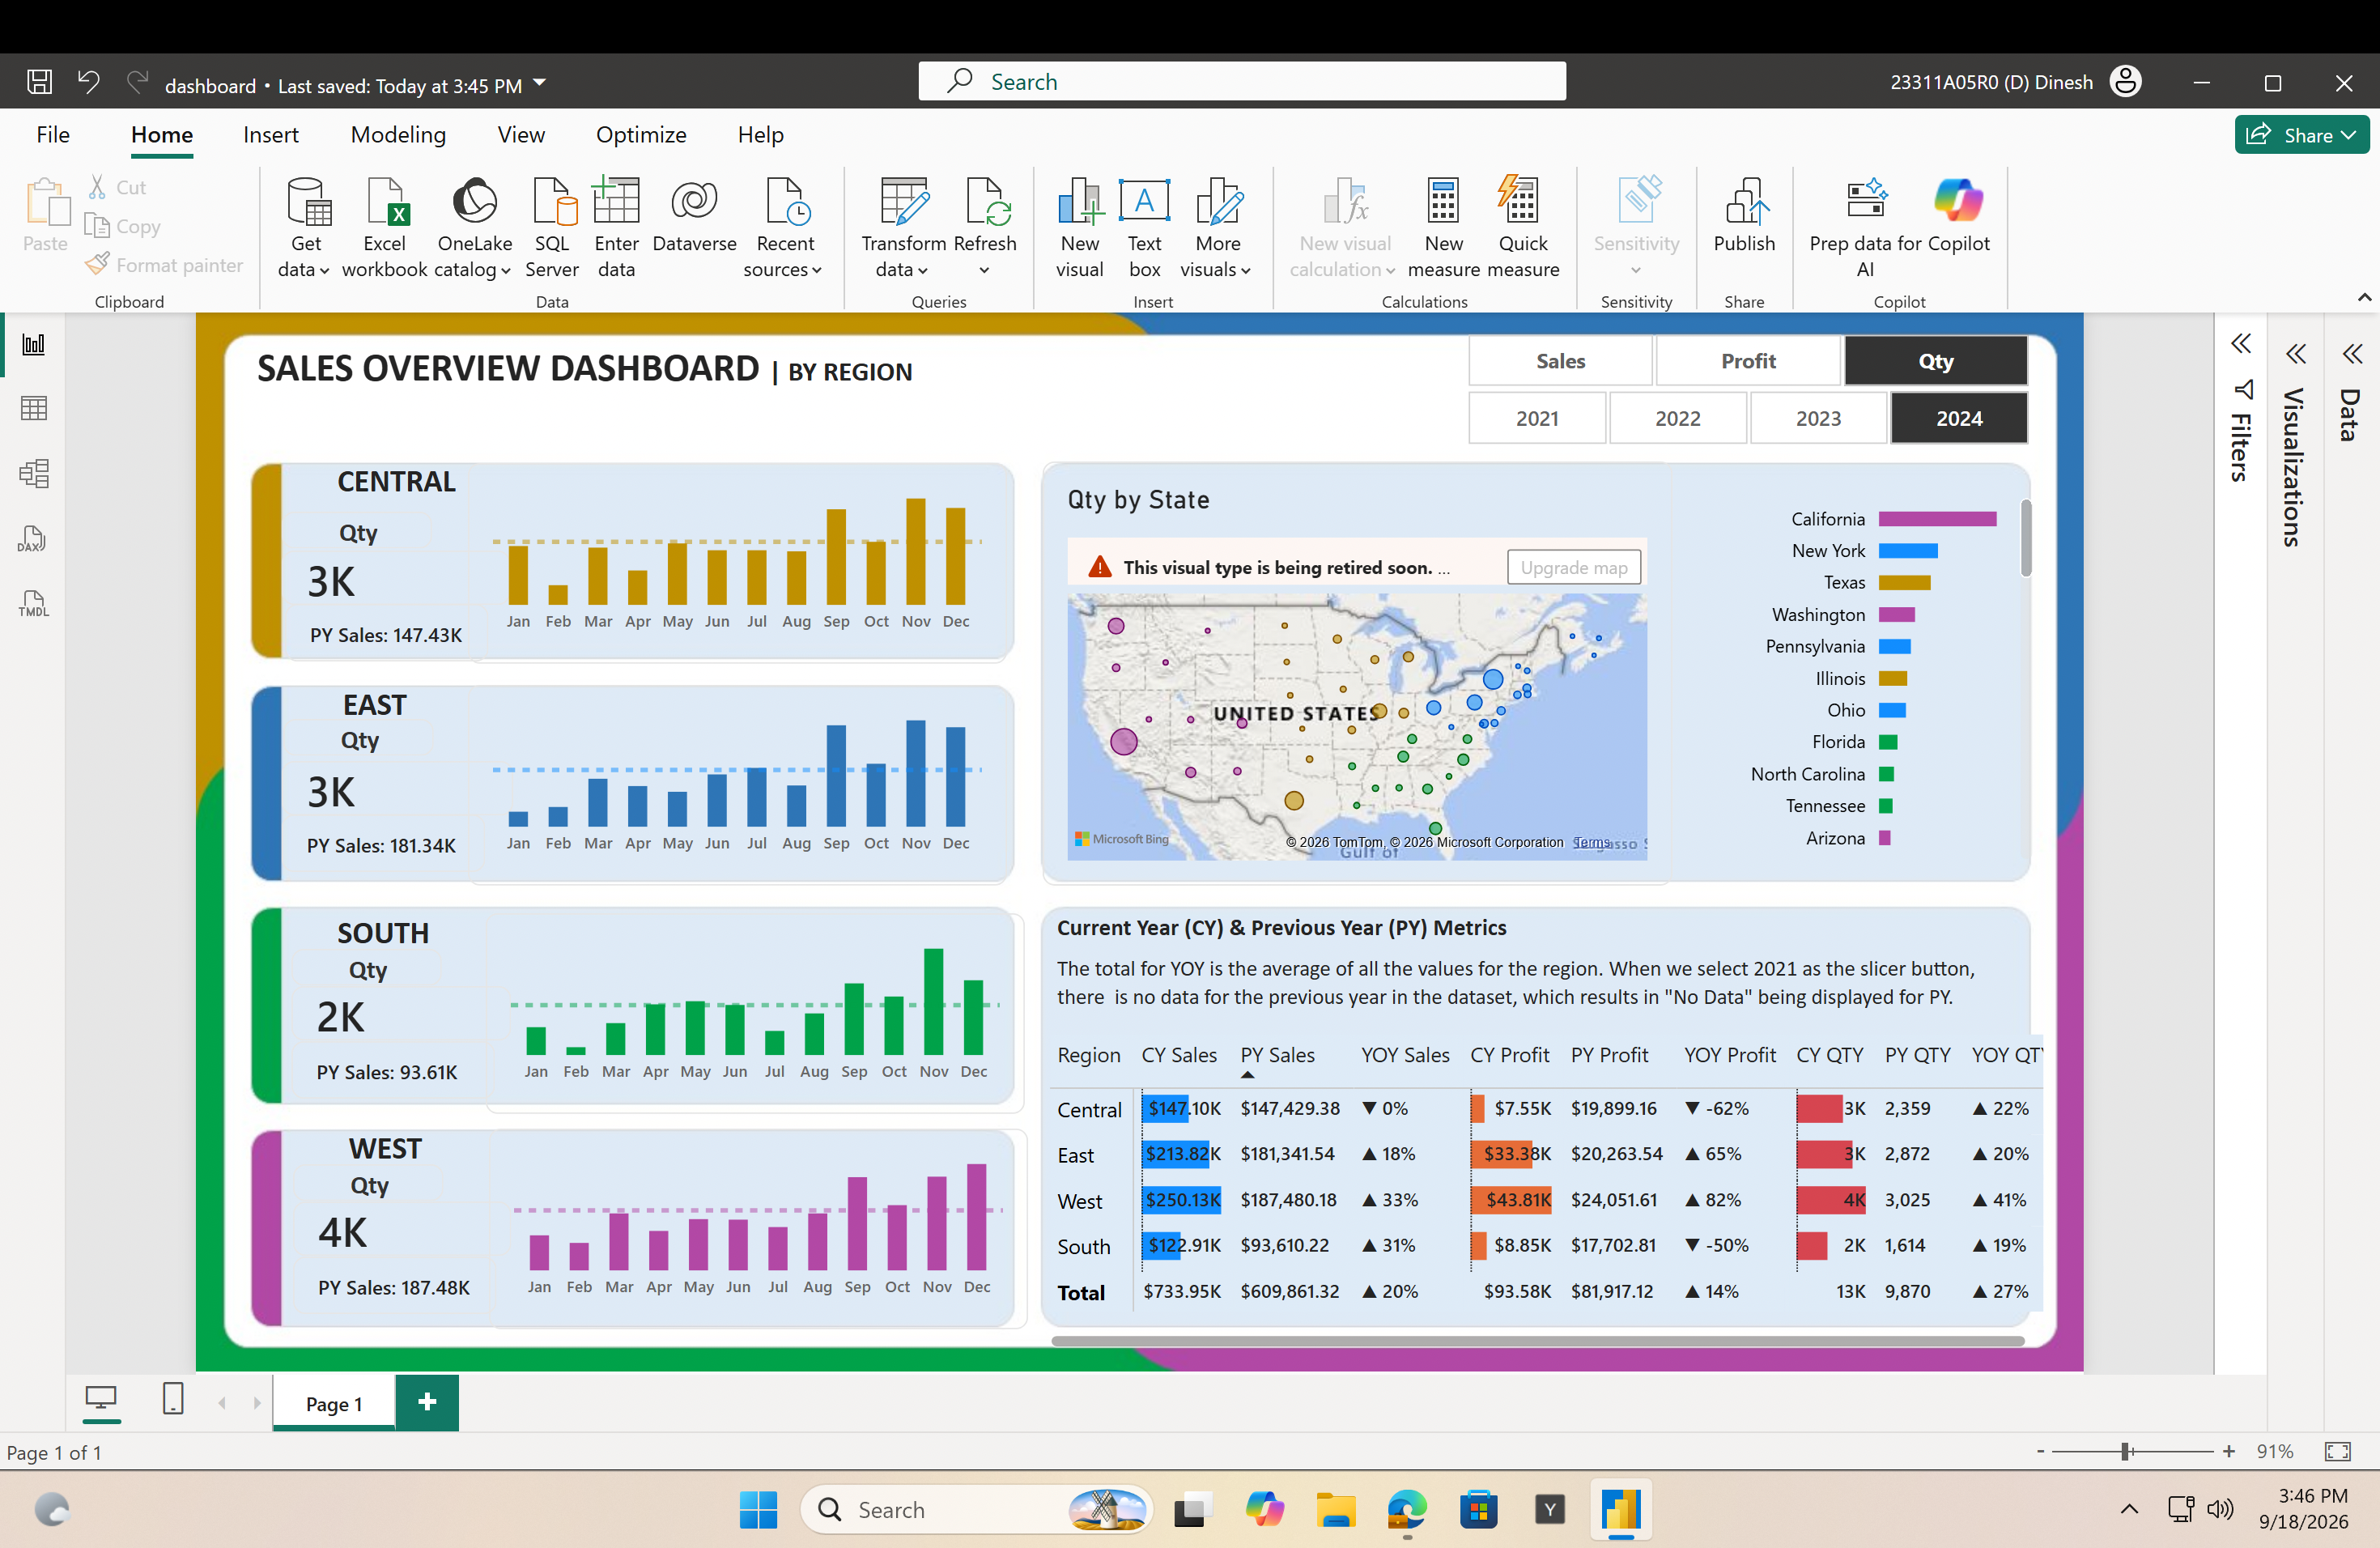

Layout of this report page (visuals, bound fields, positions):
{"tool":"powerbi","page":{"name":"Page 1","canvas":[1280,720],"ordinal":0},"visuals":[{"type":"slicer","fields":{"Values":["Select Metric.Select Metric"]},"box":[841.8,13.6,419.7,38.4],"z":0},{"type":"cardVisual","fields":{"Data":["Sales Data.Total Qty"]},"box":[58.2,160.9,156,37.1],"z":1000},{"type":"textbox","box":[73,101.5,125,47],"z":2000},{"type":"slicer","fields":{"Values":["Calender Table.Year"]},"box":[841.8,52,419.7,39.6],"z":3000},{"type":"cardVisual","fields":{"Data":["Sales Data.Dynamic Title"]},"box":[58.2,134.9,102.7,26],"z":4000},{"type":"cardVisual","fields":{"Data":["Sales Data.PY KPI Sales"]},"box":[60.7,198.1,138.6,39.6],"z":5000},{"type":"clusteredColumnChart","fields":{"Category":["Calender Table.Month"],"Y":["Sales Data.Total Qty"]},"box":[184.4,102.1,365.5,136.1],"z":6000},{"type":"textbox","box":[19.8,20.9,488.4,39.5],"z":7000},{"type":"cardVisual","fields":{"Data":["Sales Data.Total Qty"]},"box":[58.2,304.5,157.2,37.1],"z":8000},{"type":"textbox","box":[58.2,252.5,126.3,35.9],"z":9000},{"type":"cardVisual","fields":{"Data":["Sales Data.Dynamic Title"]},"box":[59.7,275.9,102.7,26],"z":10000},{"type":"cardVisual","fields":{"Data":["Sales Data.PY KPI Sales"]},"box":[58.2,340.2,138.6,39.6],"z":11000},{"type":"clusteredColumnChart","fields":{"Category":["Calender Table.Month"],"Y":["Sales Data.Total Qty"]},"box":[184.4,252.4,365.5,136.1],"z":12000},{"type":"cardVisual","fields":{"Data":["Sales Data.Total Qty"]},"box":[64.4,456.8,149.8,37.1],"z":13000},{"type":"textbox","box":[64.4,407.3,125,37.1],"z":14000},{"type":"cardVisual","fields":{"Data":["Sales Data.Dynamic Title"]},"box":[64.4,430.8,102.7,26],"z":15000},{"type":"cardVisual","fields":{"Data":["Sales Data.PY KPI Sales"]},"box":[64.4,493.9,138.6,39.6],"z":16000},{"type":"clusteredColumnChart","fields":{"Category":["Calender Table.Month"],"Y":["Sales Data.Total Qty"]},"box":[196.8,407.3,365.5,136.1],"z":17000},{"type":"cardVisual","fields":{"Data":["Sales Data.Total Qty"]},"box":[65.6,602.9,148.5,37.1],"z":18000},{"type":"textbox","box":[65.7,553.4,125,37.1],"z":19000},{"type":"cardVisual","fields":{"Data":["Sales Data.Dynamic Title"]},"box":[65.7,577,102.7,26],"z":20000},{"type":"cardVisual","fields":{"Data":["Sales Data.PY KPI Sales"]},"box":[65.7,640.1,138.6,39.6],"z":21000},{"type":"clusteredColumnChart","fields":{"Category":["Calender Table.Month"],"Y":["Sales Data.Total Qty"]},"box":[198.2,553.4,365.5,136.1],"z":22000},{"type":"map","fields":{"Category":["Sales Data.State/Province"],"Series":["Sales Data.Region"],"Size":["Sales Data.Dynamic Metric"]},"box":[574,101,427,287.6],"z":23000},{"type":"barChart","fields":{"Category":["Sales Data.State/Province"],"Series":["Sales Data.Region"],"Y":["Sales Data.Total Qty"]},"box":[1001.5,104,260,282.2],"z":24000},{"type":"pivotTable","fields":{"Rows":["Sales Data.Region"],"Values":["Sales Data.CY Sales","Sales Data.PY Sales Display","Sales Data.YOY Sales","Sales Data.CY Profit","Sales Data.PY Profit Display","Sales Data.YOY Profit","Sales Data.CY QTY","Sales Data.PY QTY Display","Sales Data.YOY QTY"]},"box":[563.2,475.4,705.6,242.6],"z":25000},{"type":"textbox","box":[584.3,407.3,501.4,37.1],"z":26000},{"type":"textbox","box":[584.3,434.5,647.4,43.3],"z":27000}]}

Visuals, with their boxes on the page's 1280x720 design canvas (x1, y1, x2, y2). These are canvas units, not pixel positions in the 2380x1548 screenshot, which may show the page scaled, cropped or inside an application window:
slicer - Select Metric.Select Metric: rect(842, 14, 1262, 52)
cardVisual - Sales Data.Total Qty: rect(58, 161, 214, 198)
textbox: rect(73, 102, 198, 148)
slicer - Calender Table.Year: rect(842, 52, 1262, 92)
cardVisual - Sales Data.Dynamic Title: rect(58, 135, 161, 161)
cardVisual - Sales Data.PY KPI Sales: rect(61, 198, 199, 238)
clusteredColumnChart - Calender Table.Month x Sales Data.Total Qty: rect(184, 102, 550, 238)
textbox: rect(20, 21, 508, 60)
cardVisual - Sales Data.Total Qty: rect(58, 304, 215, 342)
textbox: rect(58, 252, 184, 288)
cardVisual - Sales Data.Dynamic Title: rect(60, 276, 162, 302)
cardVisual - Sales Data.PY KPI Sales: rect(58, 340, 197, 380)
clusteredColumnChart - Calender Table.Month x Sales Data.Total Qty: rect(184, 252, 550, 388)
cardVisual - Sales Data.Total Qty: rect(64, 457, 214, 494)
textbox: rect(64, 407, 189, 444)
cardVisual - Sales Data.Dynamic Title: rect(64, 431, 167, 457)
cardVisual - Sales Data.PY KPI Sales: rect(64, 494, 203, 534)
clusteredColumnChart - Calender Table.Month x Sales Data.Total Qty: rect(197, 407, 562, 543)
cardVisual - Sales Data.Total Qty: rect(66, 603, 214, 640)
textbox: rect(66, 553, 191, 590)
cardVisual - Sales Data.Dynamic Title: rect(66, 577, 168, 603)
cardVisual - Sales Data.PY KPI Sales: rect(66, 640, 204, 680)
clusteredColumnChart - Calender Table.Month x Sales Data.Total Qty: rect(198, 553, 564, 690)
map - Sales Data.State/Province x Sales Data.Region: rect(574, 101, 1001, 389)
barChart - Sales Data.State/Province x Sales Data.Region: rect(1002, 104, 1262, 386)
pivotTable - Sales Data.Region x Sales Data.CY Sales: rect(563, 475, 1269, 718)
textbox: rect(584, 407, 1086, 444)
textbox: rect(584, 434, 1232, 478)
